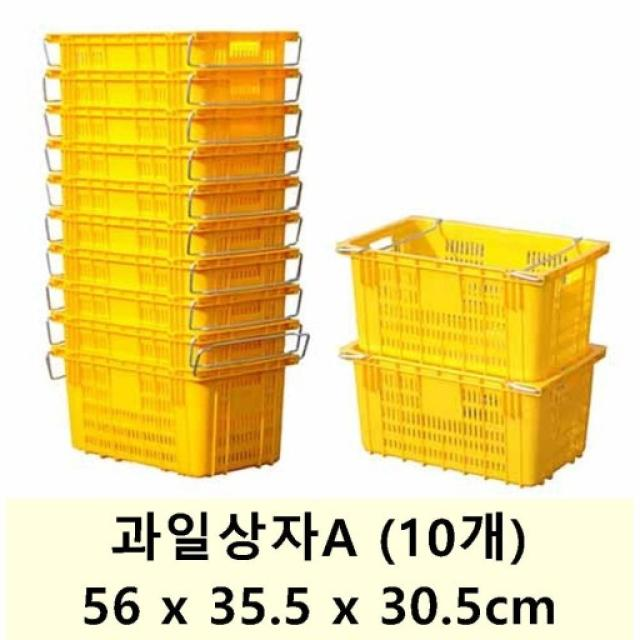basket: (323, 207, 611, 392), (342, 345, 606, 487), (46, 347, 298, 480), (47, 312, 309, 374), (48, 279, 301, 334), (49, 246, 300, 298), (46, 210, 301, 259), (47, 174, 301, 222), (45, 66, 301, 109), (46, 140, 301, 183), (45, 31, 300, 71), (46, 108, 300, 146)
